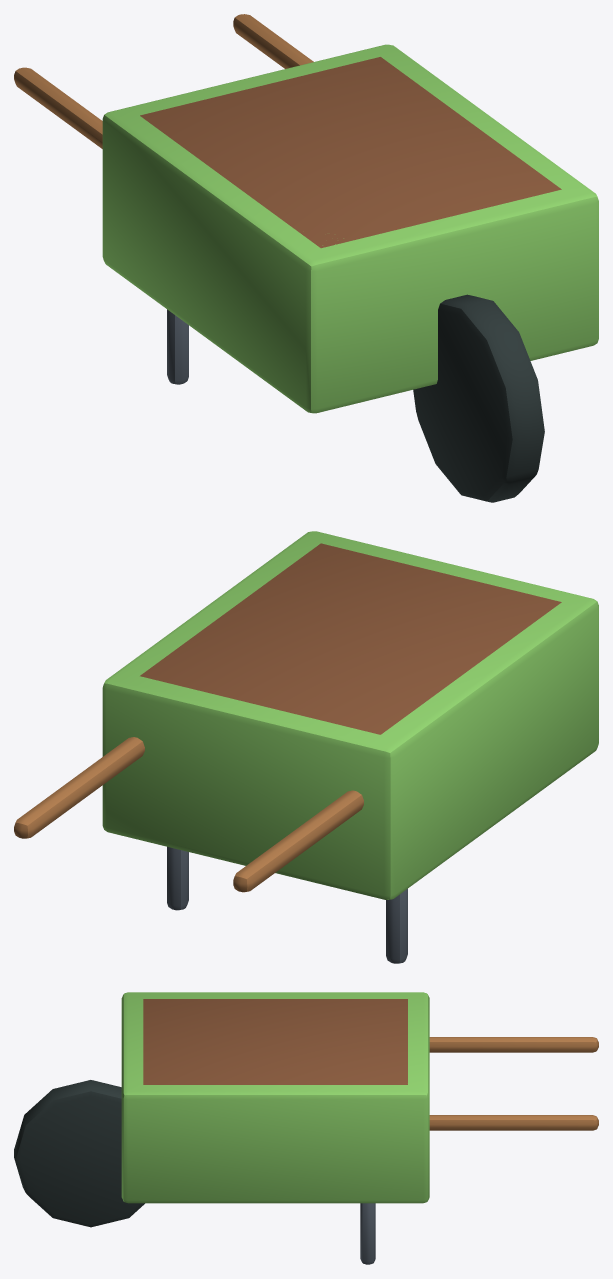
File: wheelbarrow.glb
3 views of the same model, one above another, from view 1: azimuth 30°, elevation 25°; view 2: azimuth 150°, elevation 25°; view 3: azimuth 270°, elevation 25° (orthographic). The views are drawn at different scales.
Visible parts, largest first — view 1: WheelbarrowMesh; view 2: WheelbarrowMesh; view 3: WheelbarrowMesh.
Part boxes in pixels (x1=…): WheelbarrowMesh: x1=14, y1=14, x2=598, y2=502; WheelbarrowMesh: x1=14, y1=531, x2=598, y2=963; WheelbarrowMesh: x1=14, y1=992, x2=598, y2=1264.
Size of the model in its own units: 0.8 by 0.655 by 1.9.
